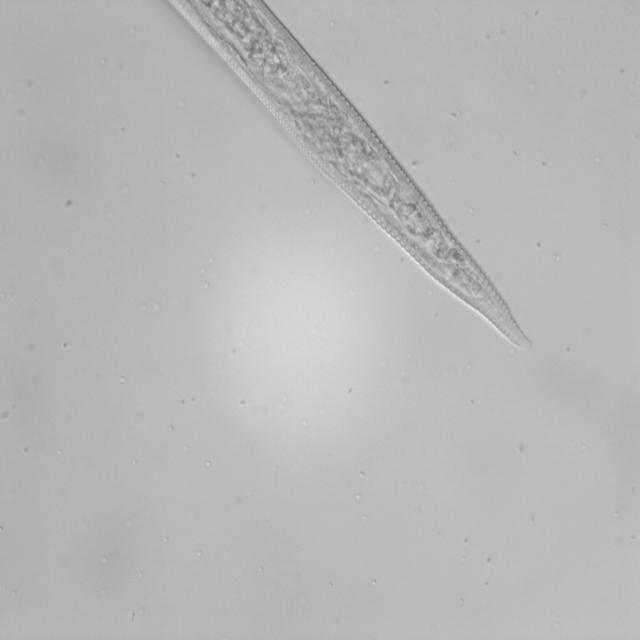Radopholus: (161, 0, 550, 357)
